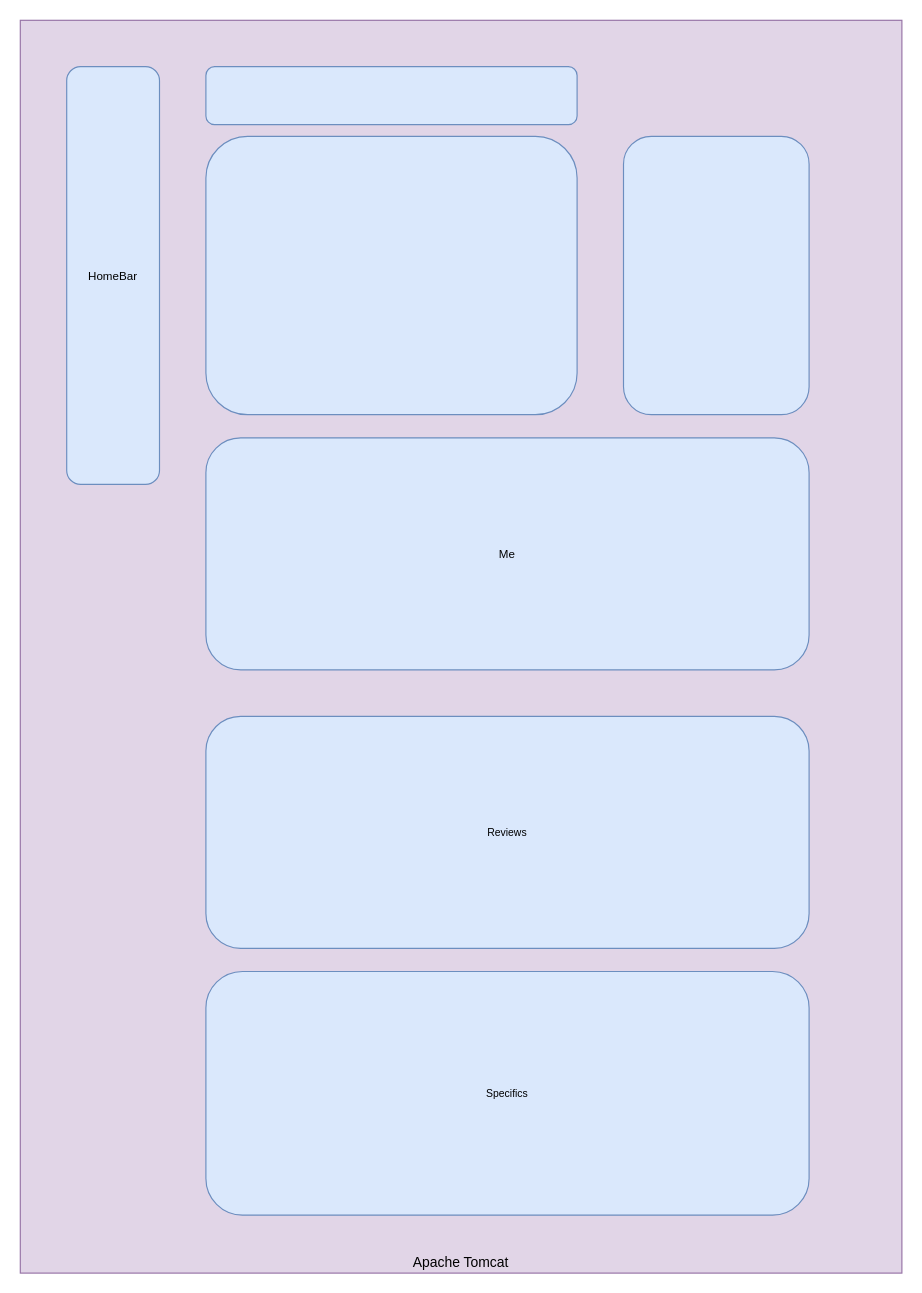
This 922x1293 diagram has some shape labels left out. Each missing label, with the centre of its shape:
"Addition" goes at (x=715, y=275).
"CvUpperBar" goes at (x=391, y=95).
"Profile" goes at (x=391, y=275).
